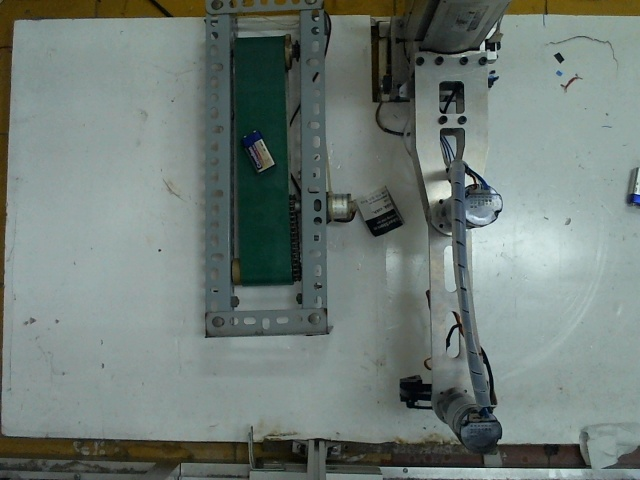battery: (241, 129, 275, 170)
